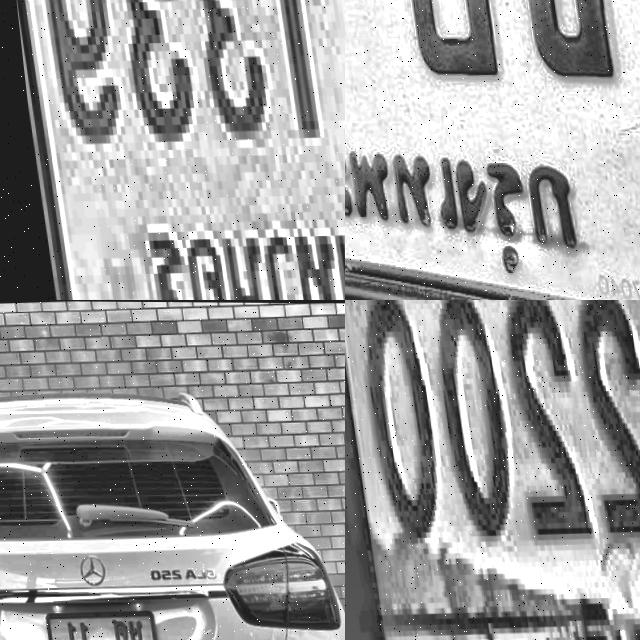license-plate: (0, 0, 345, 300), (345, 300, 640, 640), (345, 0, 640, 300), (36, 607, 154, 640)
